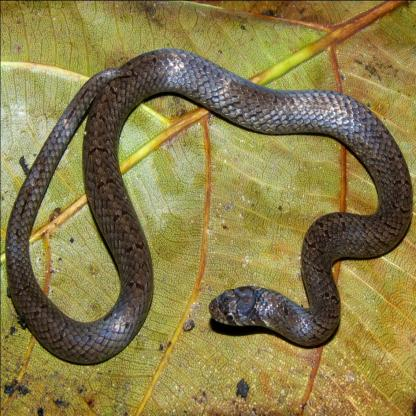snakes: (10, 49, 412, 360)
